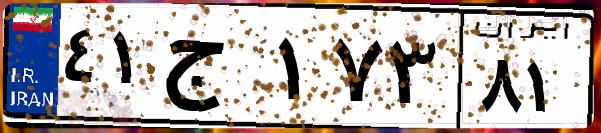1: (270, 28, 330, 110), (525, 38, 570, 115), (110, 28, 158, 98)
3: (385, 28, 445, 110)
4: (57, 26, 110, 100)
7: (330, 28, 385, 110)
8: (475, 38, 525, 113)
ج: (158, 20, 270, 120)
